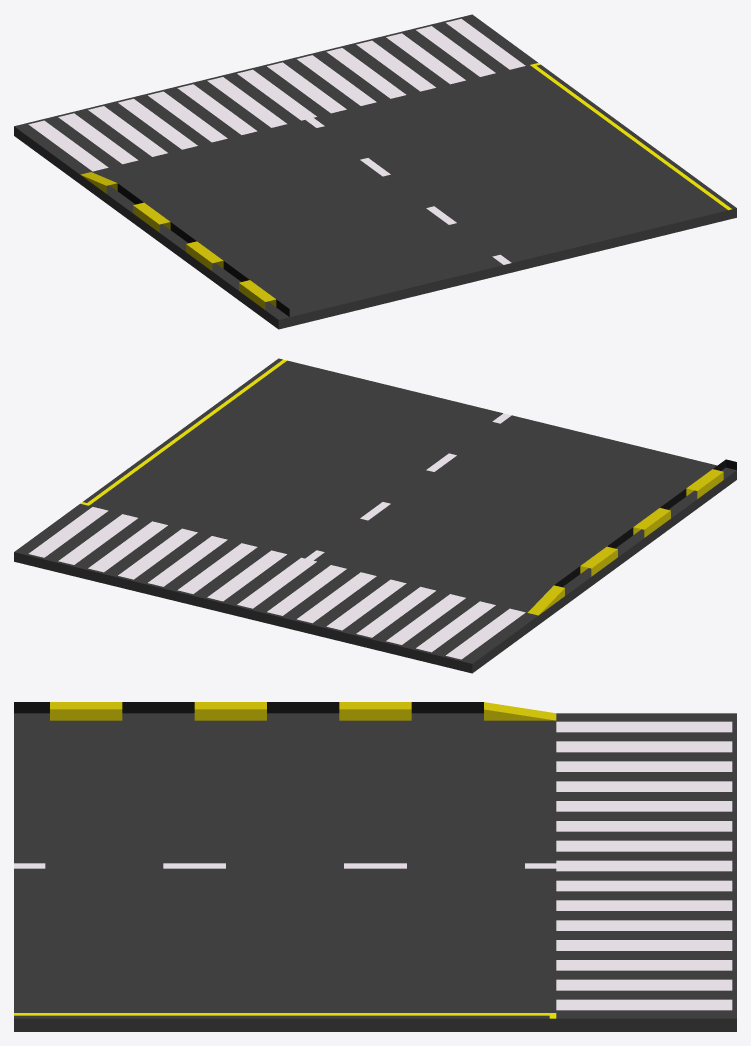
Rendered from major_straight_2_width_crosswalk.glb.
The picture shows the model from 3 angles, top to bottom: view 1: azimuth 30°, elevation 25°; view 2: azimuth 150°, elevation 25°; view 3: azimuth 270°, elevation 25°; orthographic projection. The views are drawn at different scales.
Visible parts, largest first — view 1: MajorStraight2WidthCrosswalk; view 2: MajorStraight2WidthCrosswalk; view 3: MajorStraight2WidthCrosswalk.
Part boxes in pixels (x1,y1,x2,y2): MajorStraight2WidthCrosswalk: [14, 14, 736, 329]; MajorStraight2WidthCrosswalk: [14, 358, 736, 673]; MajorStraight2WidthCrosswalk: [14, 702, 736, 1031].
Bounding box in the file's own units: 2 × 0.0741 × 2.
